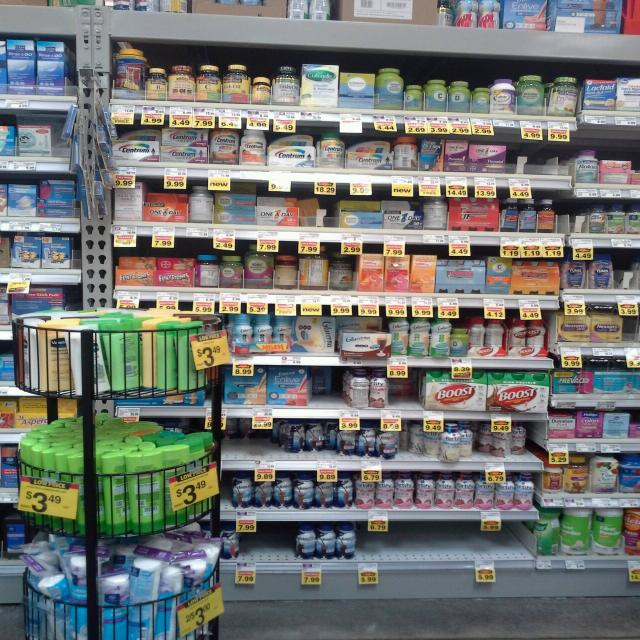void: (364, 522, 526, 556), (511, 135, 567, 174), (245, 524, 292, 562)
